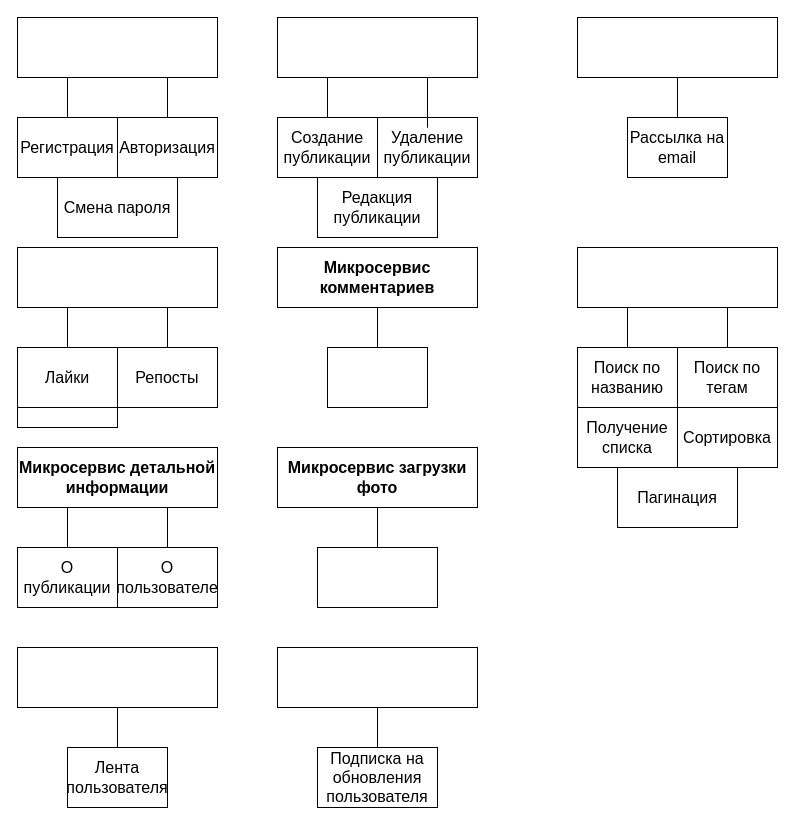
This 795x825 diagram has some shape labels left out. Each missing label, with the box of its shape:
Загрузка фото: (316, 546, 438, 608)
Микросервис ленты: (16, 646, 218, 708)
Микросервис оценок: (16, 246, 218, 308)
Микросервис подписок: (276, 646, 478, 708)
Микросервис поиска публикаций: (576, 246, 778, 308)
Микросервис рассылки: (576, 16, 778, 78)
Микросервис регистрации: (16, 16, 218, 78)
Микросервис создания объявлений: (276, 16, 478, 78)
Подсчёт: (16, 406, 118, 428)
Создание комментария: (326, 346, 428, 408)
